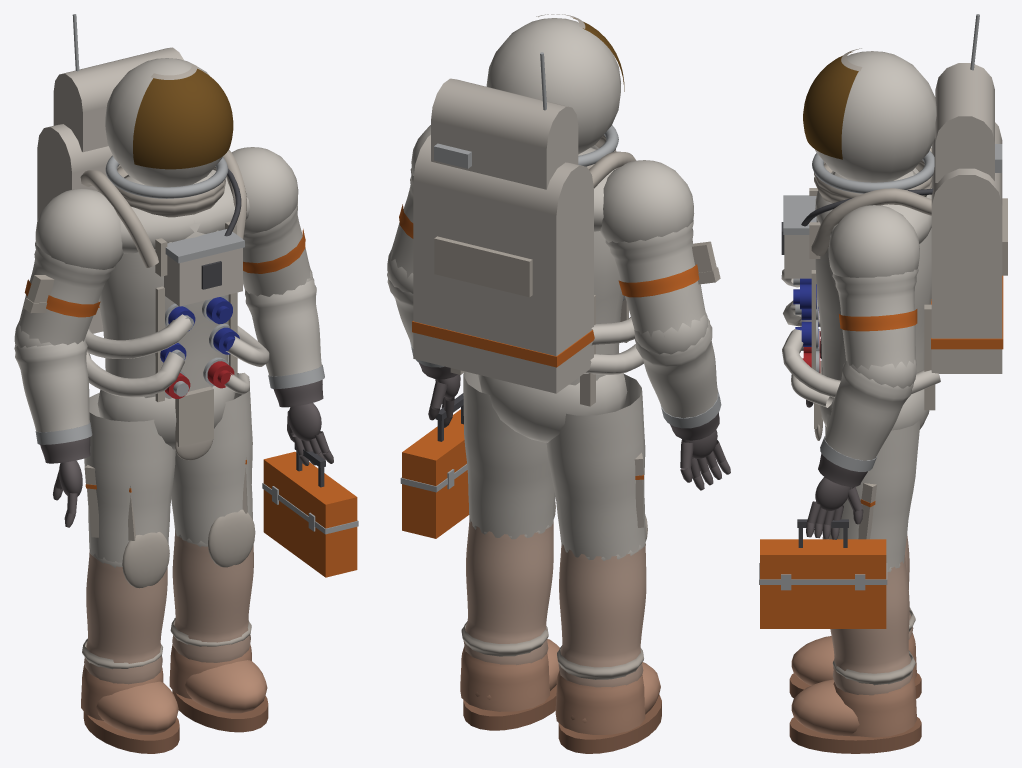
File: C02_colonist_toolcase.glb
The picture shows the model from 3 angles, left to right: view 1: azimuth 30°, elevation 25°; view 2: azimuth 150°, elevation 25°; view 3: azimuth 270°, elevation 25°; orthographic projection. The views are drawn at different scales.
Visible parts, largest first — view 1: thigh (×2), shin (×2), forearm (×2), shoulder (×2), visor, case, upper_arm (×2), torso, boot (×2), helmet_shell, oxygen_hose (×2), knee_patch (×2) (+23 smaller); view 2: pack_main, thigh (×2), shin (×2), helmet_shell, boot_shaft (×2), upper_arm (×2), pack_upper_roll, shoulder, pack_top_roll, case, pelvis, forearm (×2) (+17 smaller); view 3: pack_main, case, helmet_shell, upper_arm, shin, shoulder, thigh, forearm, pack_upper_roll, torso, boot (×2), pack_top_roll (+26 smaller).
Part boxes in pixels (x1,y1,x2,y2): thigh (×2): [84, 373, 252, 562]; shin (×2): [84, 530, 253, 684]; forearm (×2): [14, 278, 321, 432]; shoulder (×2): [35, 147, 298, 269]; visor: [133, 68, 233, 169]; case: [263, 451, 357, 577]; upper_arm (×2): [17, 199, 310, 345]; torso: [98, 172, 228, 398]; boot (×2): [96, 660, 267, 734]; helmet_shell: [105, 58, 222, 187]; oxygen_hose (×2): [85, 314, 192, 397]; knee_patch (×2): [122, 509, 255, 588]; pack_main: [413, 180, 593, 393]; thigh (×2): [463, 371, 645, 559]; shin (×2): [463, 519, 646, 687]; helmet_shell: [486, 18, 620, 154]; boot_shaft (×2): [460, 646, 645, 734]; upper_arm (×2): [390, 168, 705, 337]; pack_upper_roll: [431, 78, 578, 167]; shoulder: [600, 160, 694, 242]; pack_top_roll: [413, 135, 593, 237]; case: [402, 409, 469, 538]; pelvis: [478, 373, 627, 442]; forearm (×2): [387, 273, 717, 418]; pack_main: [931, 206, 1002, 373]; case: [760, 539, 886, 628]; helmet_shell: [815, 51, 936, 182]; upper_arm: [832, 268, 918, 369]; shin: [830, 555, 913, 695]; shoulder: [828, 205, 919, 277]; thigh: [826, 414, 920, 570]; forearm: [825, 361, 913, 460]; pack_upper_roll: [935, 63, 994, 167]; torso: [815, 170, 931, 380]; boot (×2): [791, 636, 915, 736]; pack_top_roll: [931, 122, 1002, 236].
Size of the model in its own units: 0.9325 by 2.02 by 0.6702.
